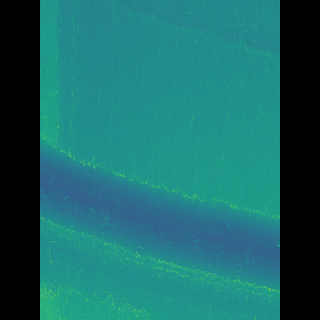Loch: (69, 135, 249, 319)
